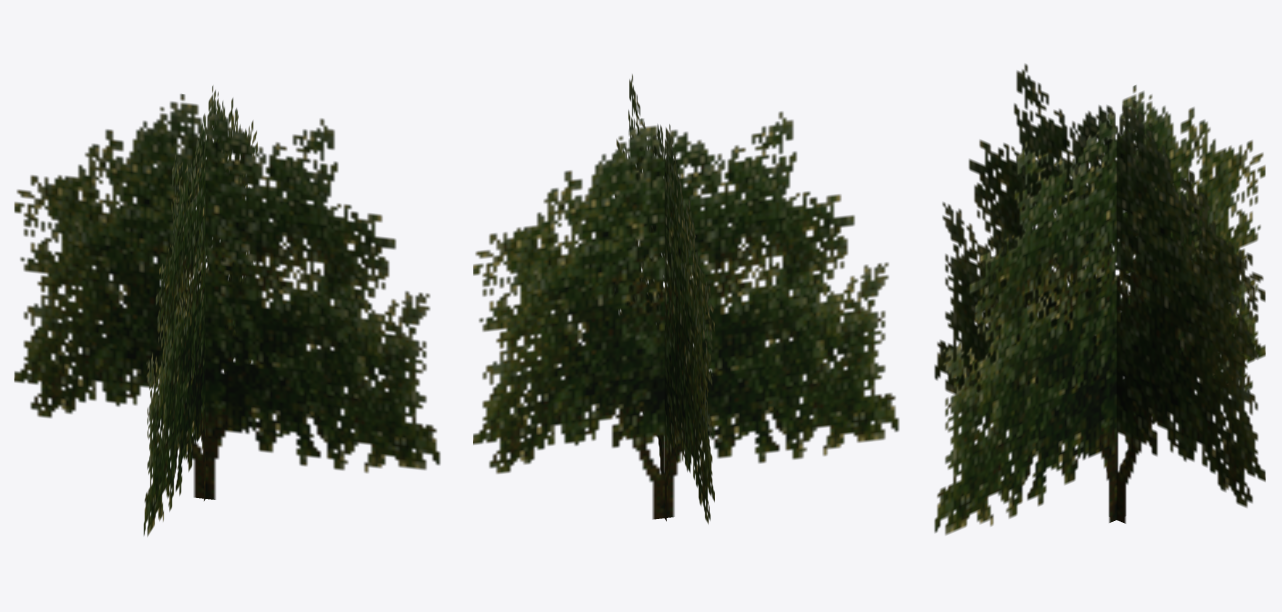
Rendered from tree116.glb.
The picture shows the model from 3 angles, left to right: view 1: azimuth 30°, elevation 25°; view 2: azimuth 150°, elevation 25°; view 3: azimuth 270°, elevation 25°; orthographic projection. The views are drawn at different scales.
Visible parts, largest first — view 1: tree116; view 2: tree116; view 3: tree116.
Part boxes in pixels (<box>): tree116: <box>14,86,440,536</box>; tree116: <box>473,74,899,523</box>; tree116: <box>934,64,1265,534</box>.
Size of the model in its own units: 3.07 by 4 by 2.79.
Materials: 1 (1 with a texture image).
